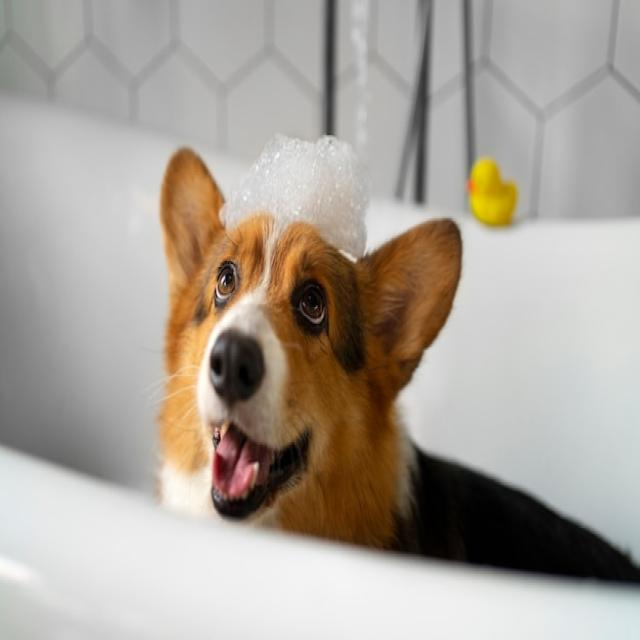Dog: (159, 148, 463, 556)
